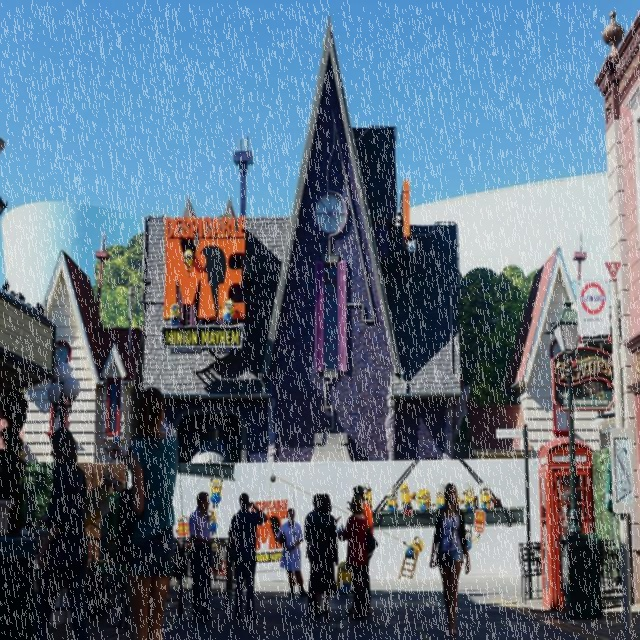pessoa: (100, 385, 178, 639), (30, 424, 97, 639), (428, 481, 472, 637), (224, 490, 267, 620), (335, 494, 373, 616), (306, 492, 339, 616), (310, 493, 340, 622), (187, 489, 215, 624), (276, 506, 309, 600), (352, 483, 374, 612), (0, 424, 27, 512), (384, 479, 446, 513), (556, 476, 581, 538), (456, 479, 494, 512), (402, 532, 426, 562), (208, 474, 224, 508), (221, 296, 237, 328), (362, 481, 373, 512), (466, 528, 480, 552), (182, 246, 194, 270), (208, 508, 218, 536), (170, 304, 182, 326)
